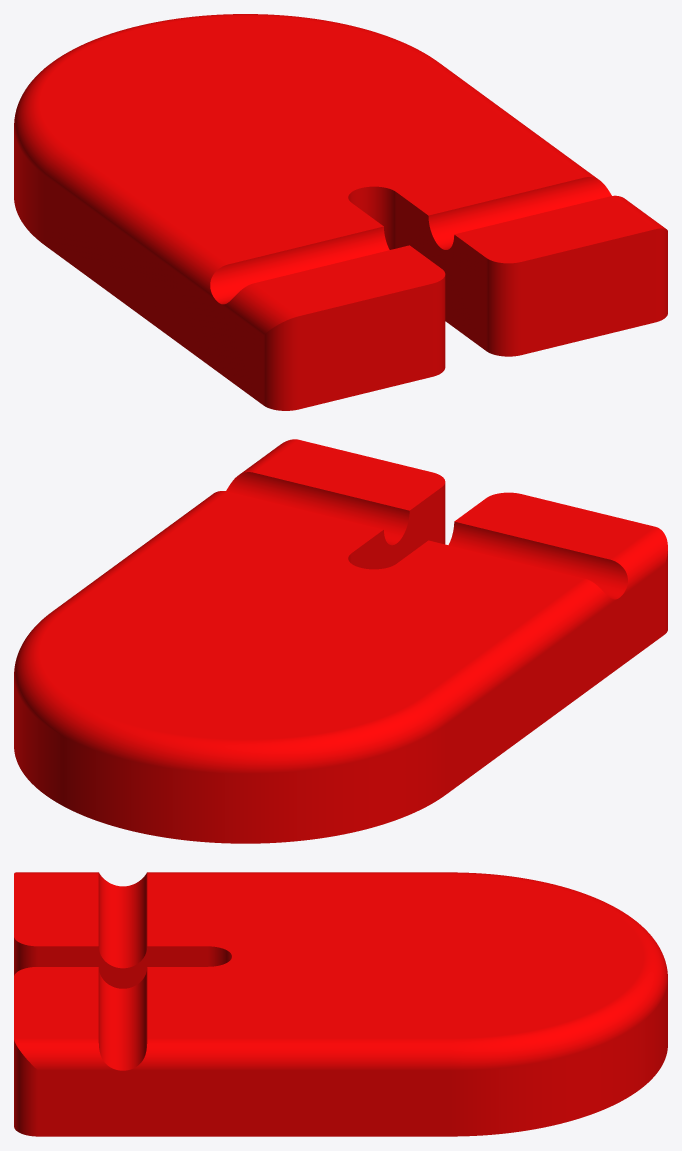
The model's file is V5_Rod_Motor_Cut_Assist_Tool.obj.
3 views of the same model, one above another, from view 1: azimuth 30°, elevation 25°; view 2: azimuth 150°, elevation 25°; view 3: azimuth 270°, elevation 25° (orthographic). The views are drawn at different scales.
Parts seen in each view (by area): view 1: Solid1:12; view 2: Solid1:12; view 3: Solid1:12.
Part boxes in pixels (x1,y1,x2,y2): Solid1:12: (14,14,667,410); Solid1:12: (14,439,667,843); Solid1:12: (14,872,667,1136).
Size of the model in its own units: 45 by 10 by 67.5.
